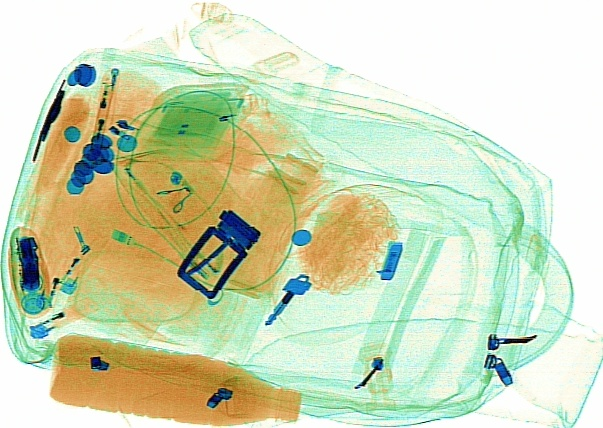lighter: (51, 223, 112, 295), (26, 290, 97, 340), (89, 64, 118, 152), (30, 243, 67, 311)
